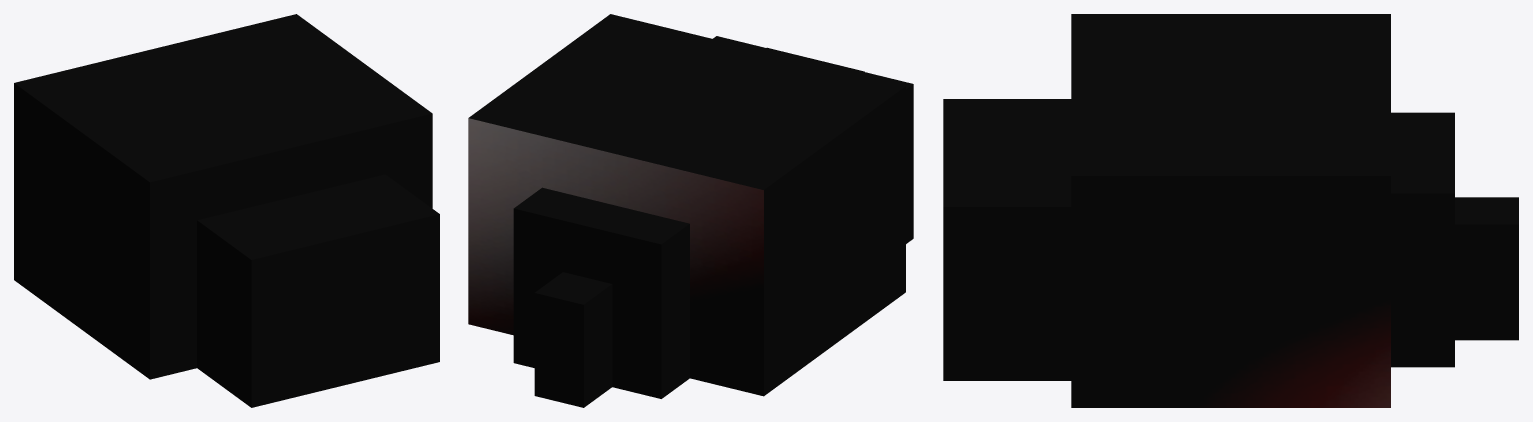
The model's file is SM_FakeEndermiteBomb.glb.
The picture shows the model from 3 angles, left to right: view 1: azimuth 30°, elevation 25°; view 2: azimuth 150°, elevation 25°; view 3: azimuth 270°, elevation 25°; orthographic projection. The views are drawn at different scales.
Visible parts, largest first — view 1: SM_FakeEndermiteBomb.001; view 2: SM_FakeEndermiteBomb.001; view 3: SM_FakeEndermiteBomb.001.
Boxes of the visible parts, x1,y1,x2,y2 form: SM_FakeEndermiteBomb.001: (14, 14, 439, 407); SM_FakeEndermiteBomb.001: (468, 14, 913, 407); SM_FakeEndermiteBomb.001: (943, 14, 1518, 407).
Bounding box in the file's own units: 75 × 50 × 113.
Materials: 1 (1 with a texture image).
